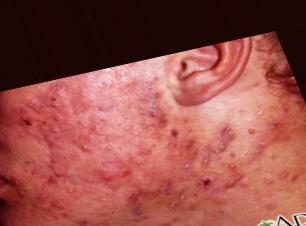Acne: (132, 70, 194, 161), (87, 96, 138, 164), (39, 80, 85, 137), (148, 169, 199, 213), (95, 156, 142, 200), (196, 117, 239, 156), (35, 147, 74, 182), (200, 164, 209, 171)
